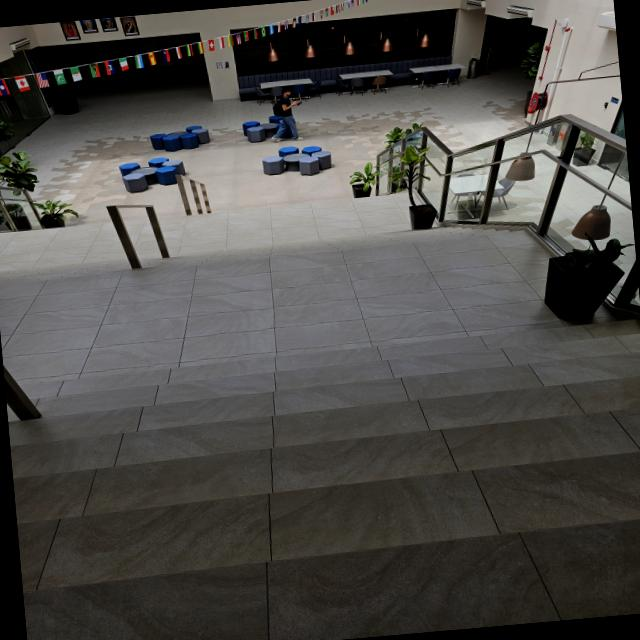footpath: (33, 235, 551, 640)
obstacle: (530, 237, 632, 329), (96, 195, 166, 272), (405, 198, 439, 229)
